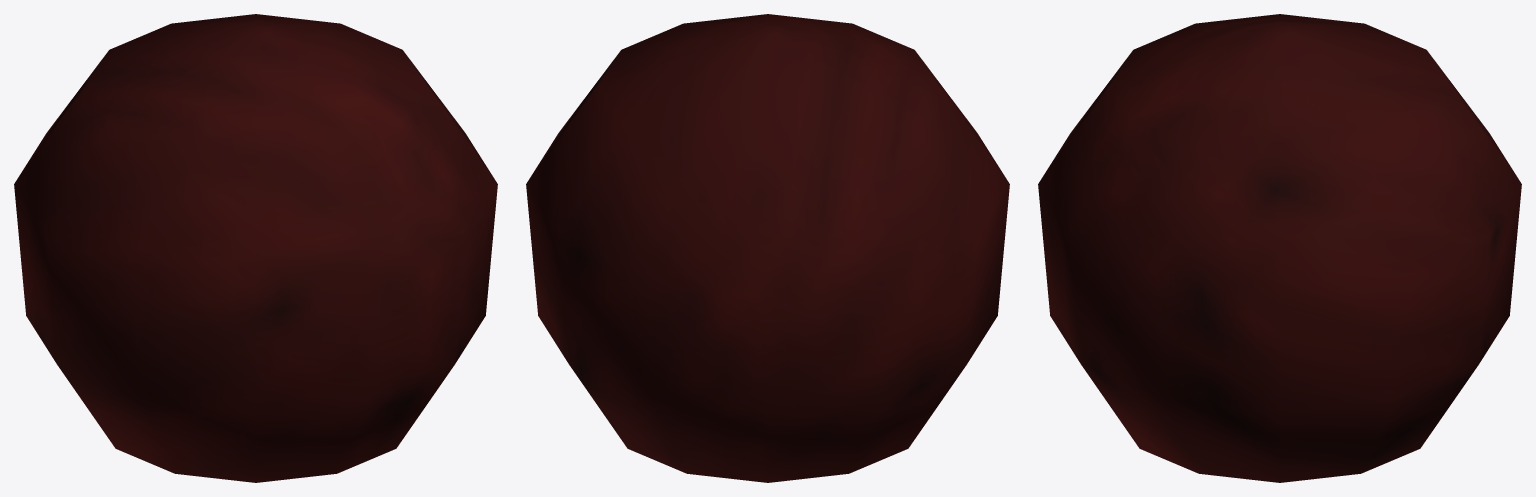
Rendered from fx_blood.glb.
3 views of the same model, side by side, from view 1: azimuth 30°, elevation 25°; view 2: azimuth 150°, elevation 25°; view 3: azimuth 270°, elevation 25° (orthographic).
Visible parts, largest first — view 1: fx_blood.001; view 2: fx_blood.001; view 3: fx_blood.001.
Part boxes in pixels (left/top/right/bottom): fx_blood.001: left=14, top=14, right=497, bottom=482; fx_blood.001: left=526, top=14, right=1009, bottom=482; fx_blood.001: left=1038, top=14, right=1521, bottom=482.
Bounding box in the file's own units: 0.16 × 0.16 × 0.16.
1 material, 1 textured.
